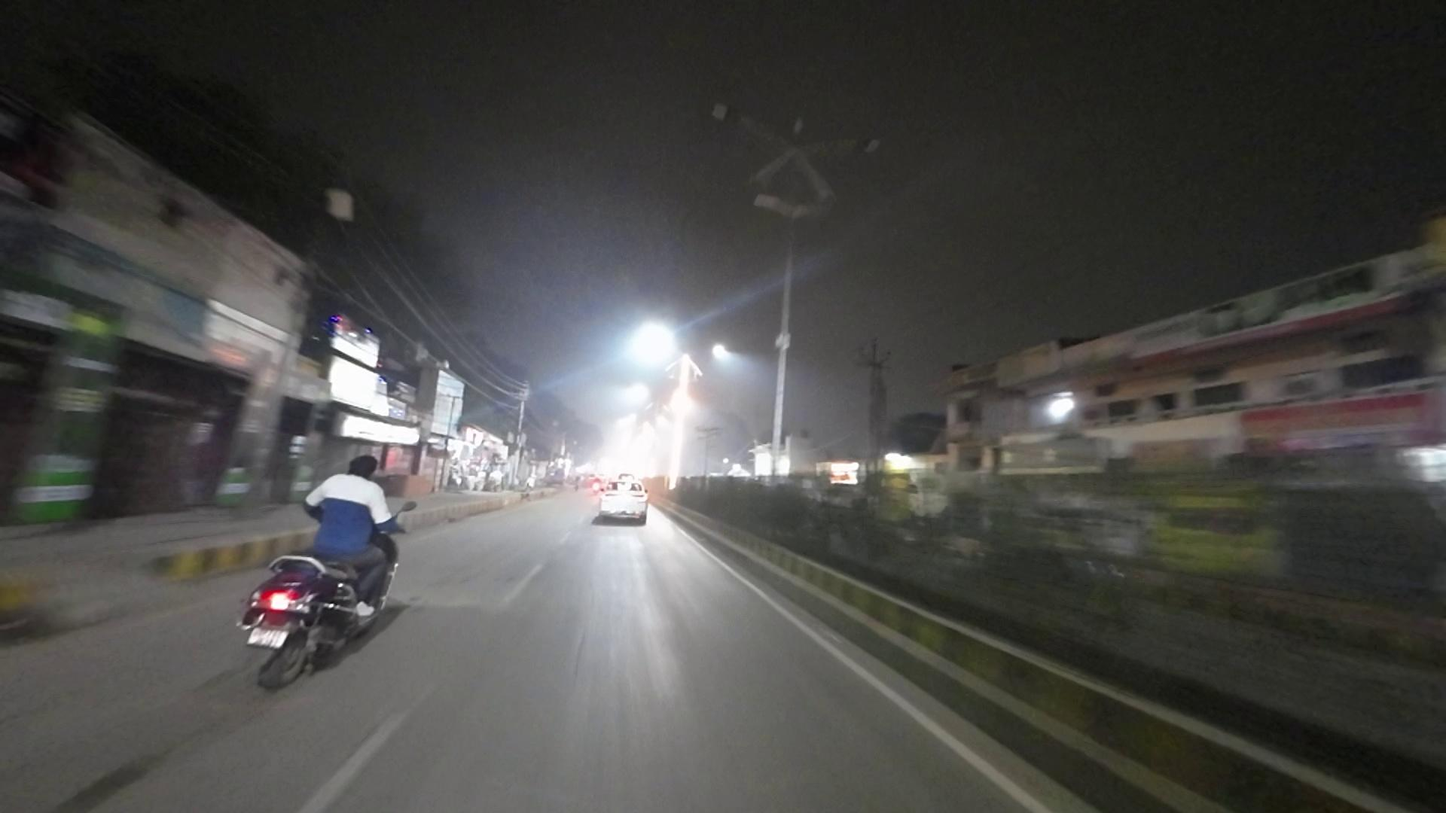streetlight: (710, 98, 785, 150), (802, 131, 883, 158)
